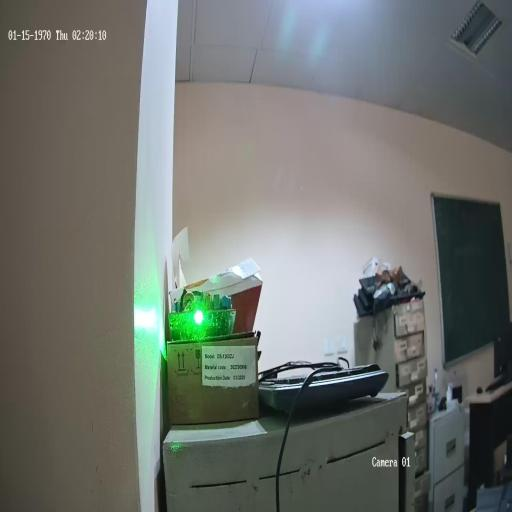laser: (192, 306, 205, 328)
